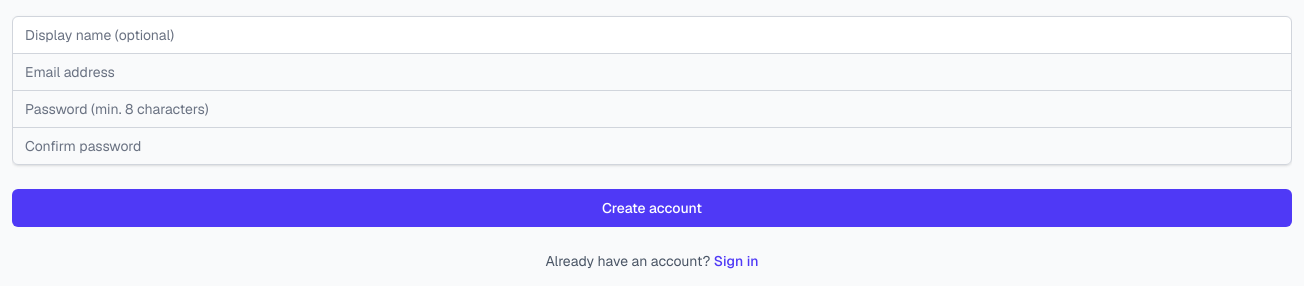
Test: RegisterForm › shows success message after successful registration
The image size is (1304, 286).
Type "test@example.com" into the field with placeholder "Email address" at (652,72), box x1=12 y1=53 x2=1292 y2=91
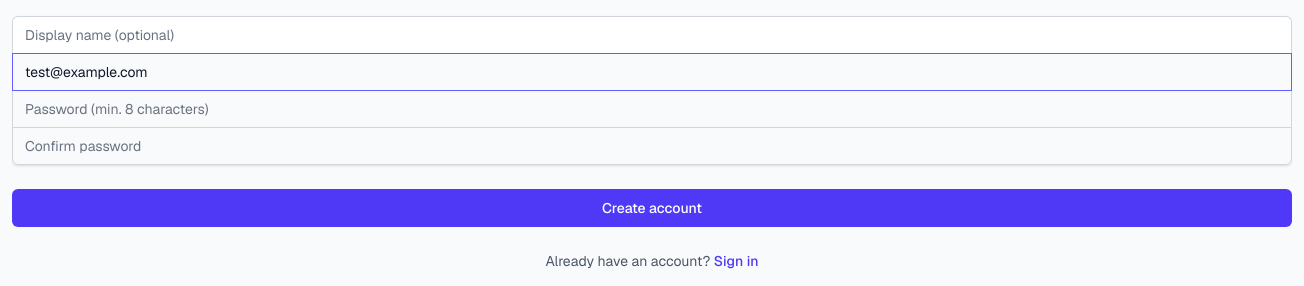
Type "password123" into the password field with placeholder "Password (min. 8 characters)" at (652,109), box x1=12 y1=90 x2=1292 y2=128
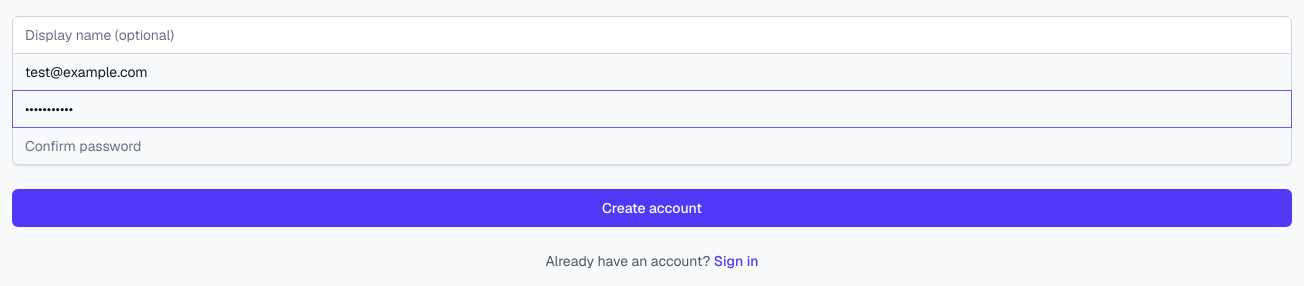
Type "password123" into the password field with placeholder "Confirm password" at (652,146), box x1=12 y1=127 x2=1292 y2=165
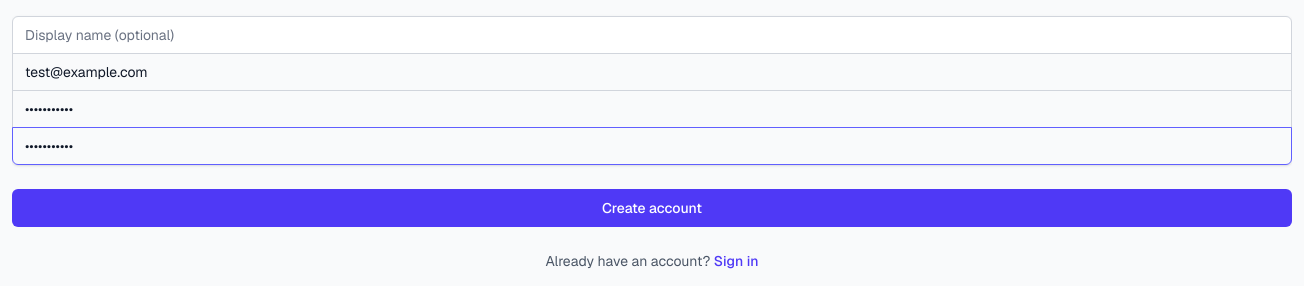
Click the button "Create account" at (652,208), box x1=12 y1=189 x2=1292 y2=227
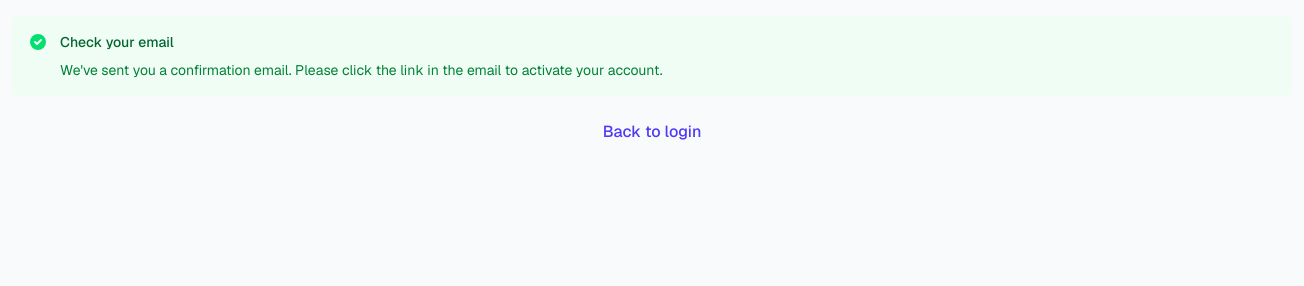
Expected: the heading "Check your email" is shown, x1=60 y1=33 x2=174 y2=51
Expected: the text "confirmation email" is shown, x1=60 y1=61 x2=662 y2=79
Expected: the link "Back to login" is shown, x1=603 y1=121 x2=701 y2=142
